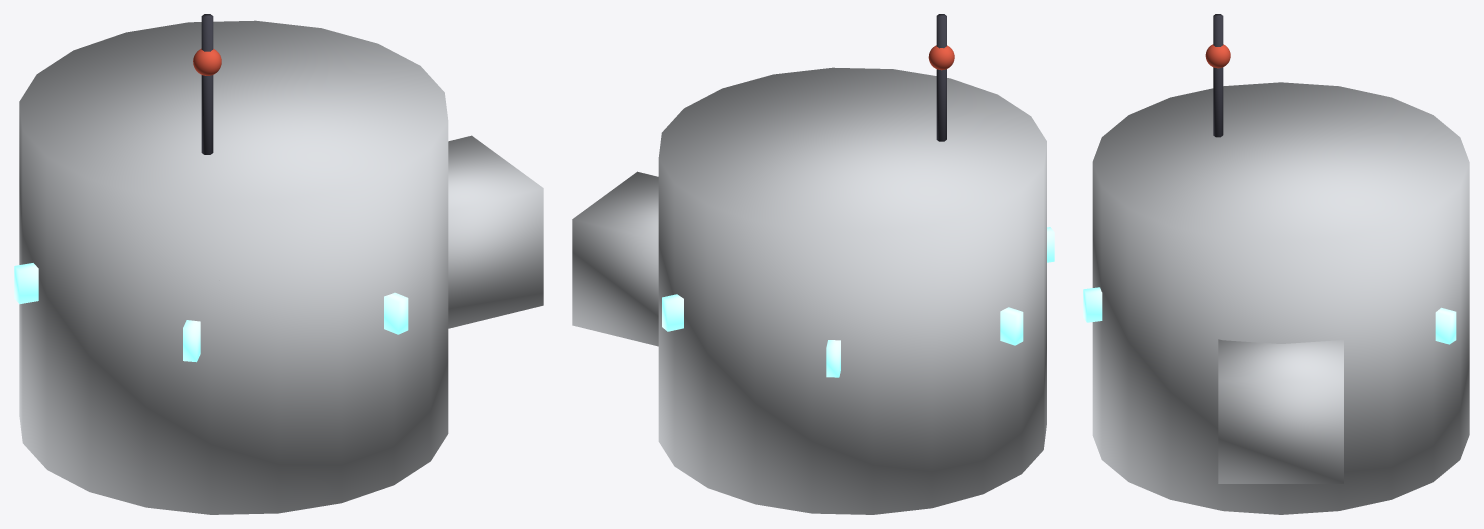
Rendered from outpost.glb.
3 views of the same model, side by side, from view 1: azimuth 30°, elevation 25°; view 2: azimuth 150°, elevation 25°; view 3: azimuth 270°, elevation 25° (orthographic). The views are drawn at different scales.
Parts seen in each view (by area): view 1: outpost; view 2: outpost; view 3: outpost.
Part boxes in pixels (x1,y1,x2,y2): outpost: (14, 14, 543, 514); outpost: (572, 14, 1054, 514); outpost: (1083, 14, 1469, 514).
Bounding box in the file's own units: 7.63 × 6.9 × 6.14.
